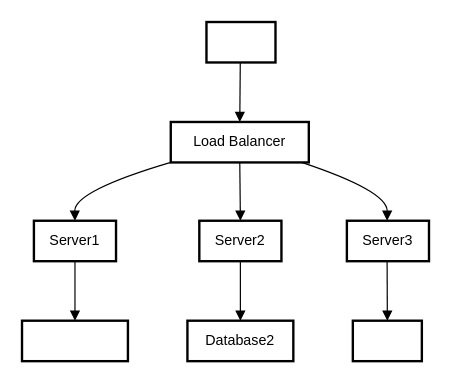
The diagram is 450 pixels wide and 382 high, and some of its shapes have lost their labels. Here are the shapes that lost their labels. From the top down, the centre of each, then its label:
point 240,41: Client
point 74,340: Database1
point 386,340: Cache
